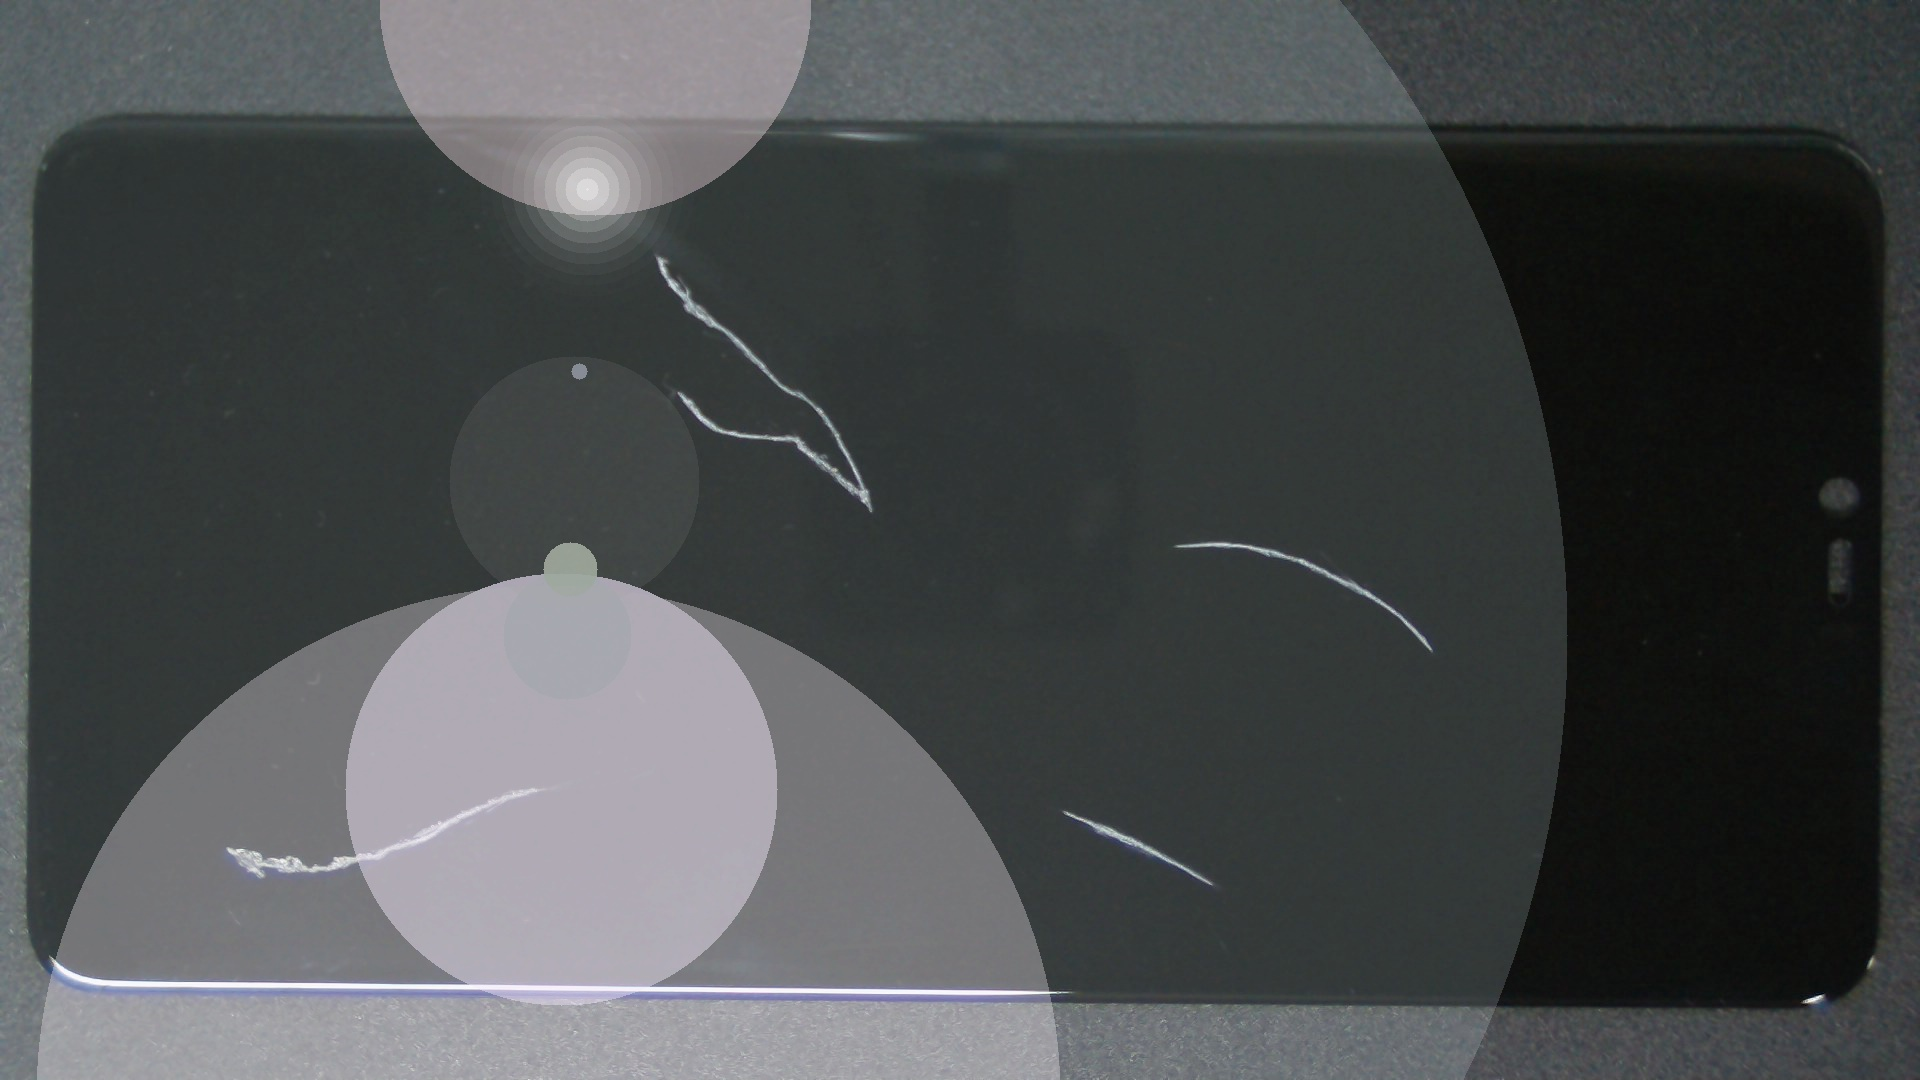oil: (530, 404, 1591, 1080), (610, 269, 1828, 811), (278, 393, 832, 1080), (327, 125, 981, 383)
